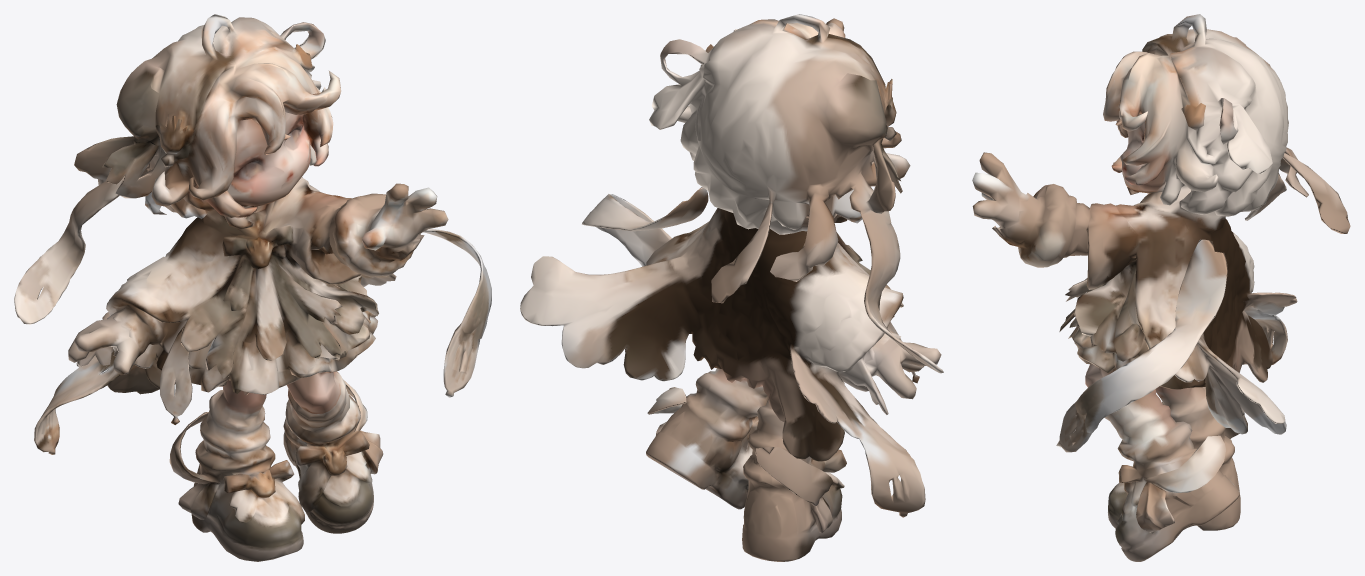
The model's file is touch_painted.glb.
The picture shows the model from 3 angles, left to right: view 1: azimuth 30°, elevation 25°; view 2: azimuth 150°, elevation 25°; view 3: azimuth 270°, elevation 25°; orthographic projection. The views are drawn at different scales.
Visible parts, largest first — view 1: Body; view 2: Body; view 3: Body.
Part boxes in pixels (<box>): Body: <box>14,14,491,561</box>; Body: <box>520,14,943,561</box>; Body: <box>972,14,1350,561</box>.
Bounding box in the file's own units: 0.8133 × 0.9997 × 0.6869.
Materials: 1 (1 with a texture image).
